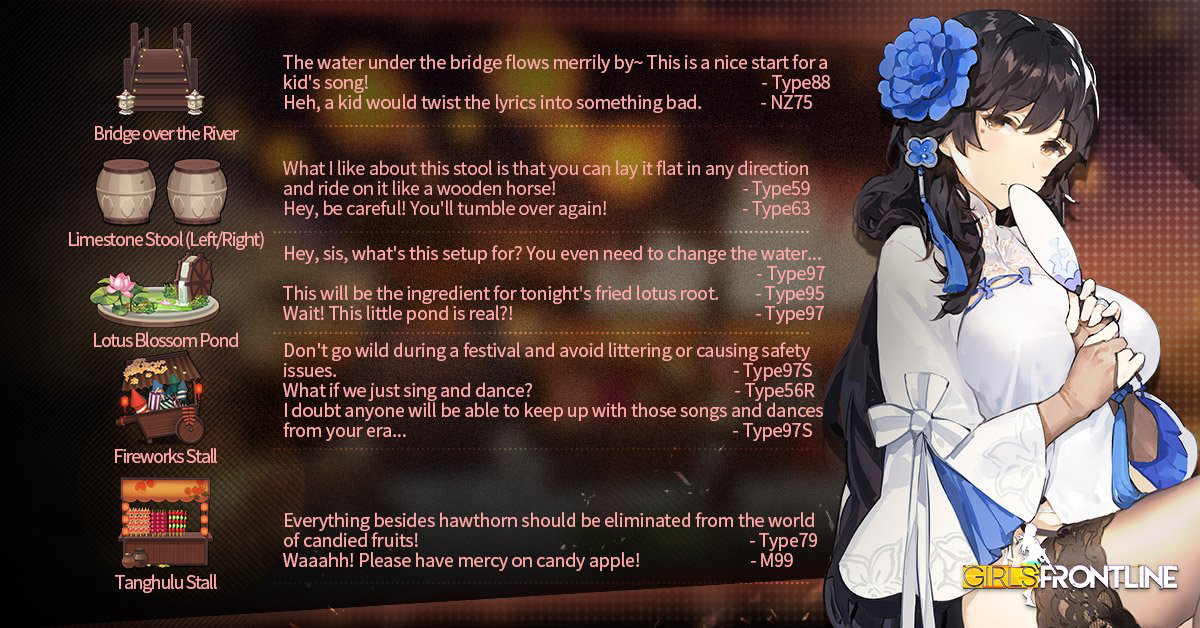latin: (280, 341, 824, 444), (279, 242, 829, 328), (278, 506, 821, 579), (279, 52, 832, 118), (278, 156, 813, 222), (66, 227, 265, 252), (91, 123, 241, 144), (91, 330, 241, 351), (112, 572, 220, 596), (110, 447, 218, 466)
